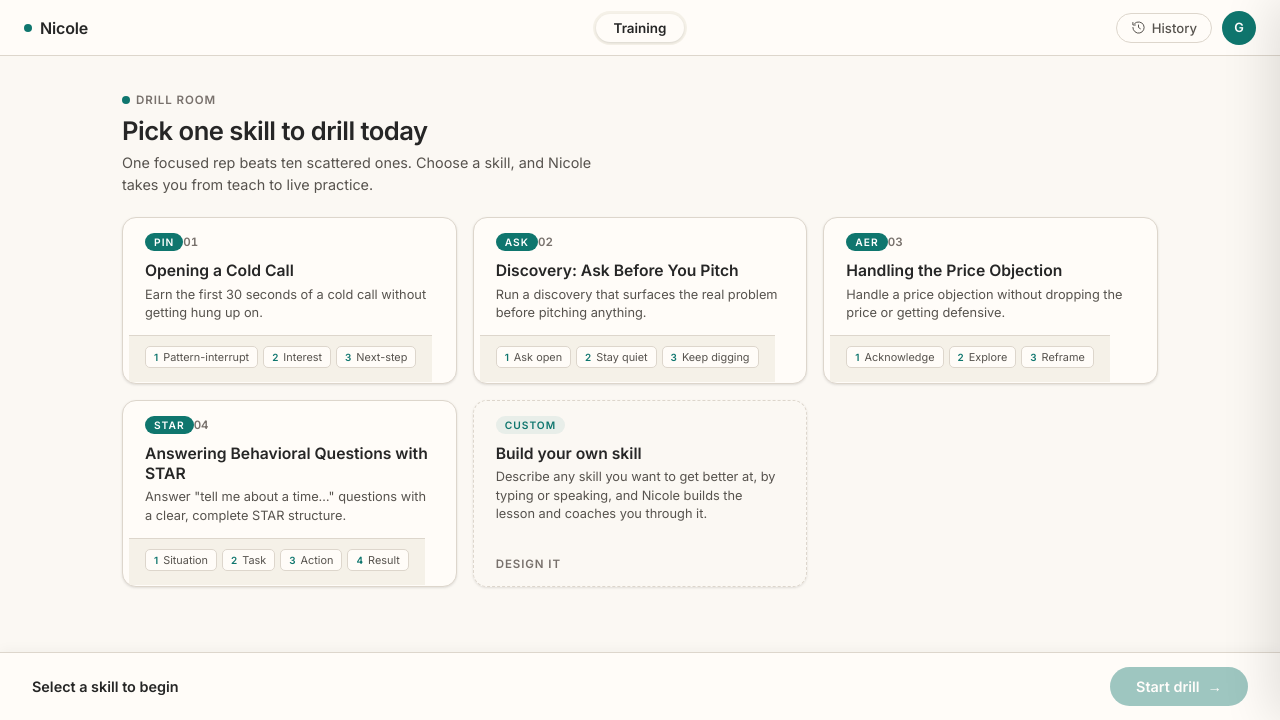
Test case: TrainingScreen › selecting a lesson shows the phase indicator (inside LiveRoom rail)
Click the button with test id "lesson-card" that starts with "PIN" at (289, 300), box [122,217,457,384]
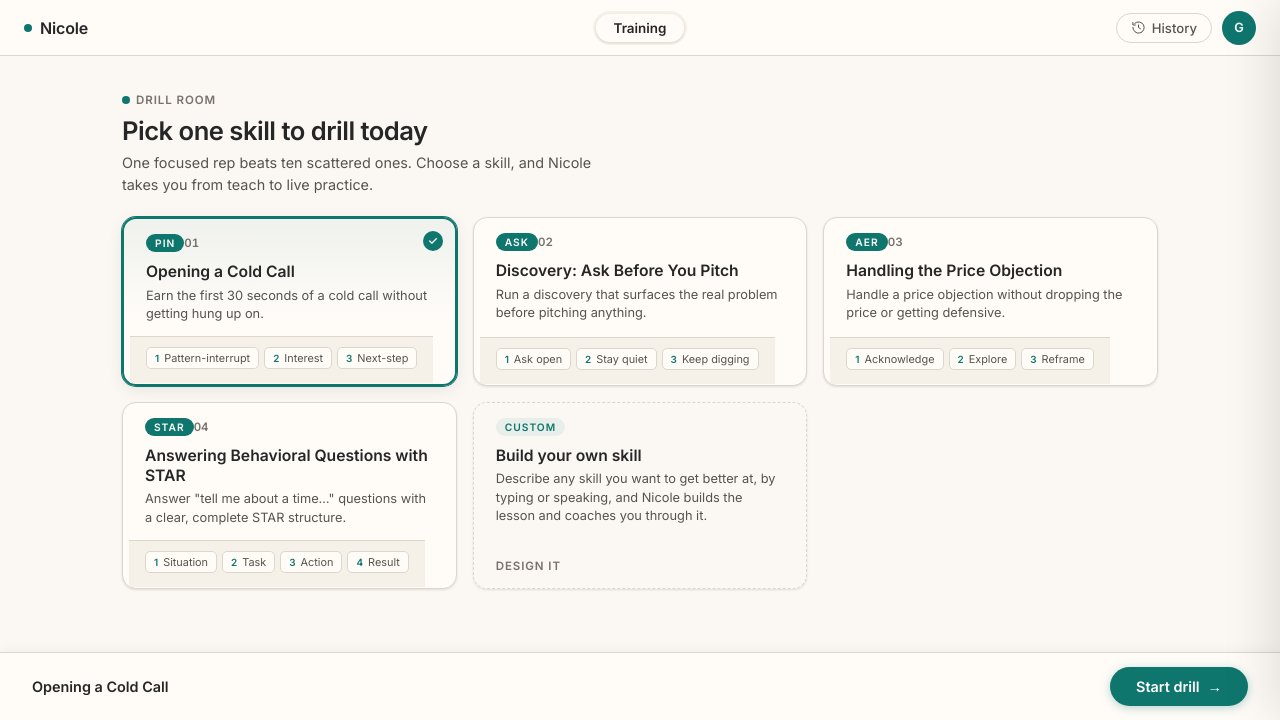
Click the button with test id "start-training-button" at (1179, 686), box [1110,667,1248,706]
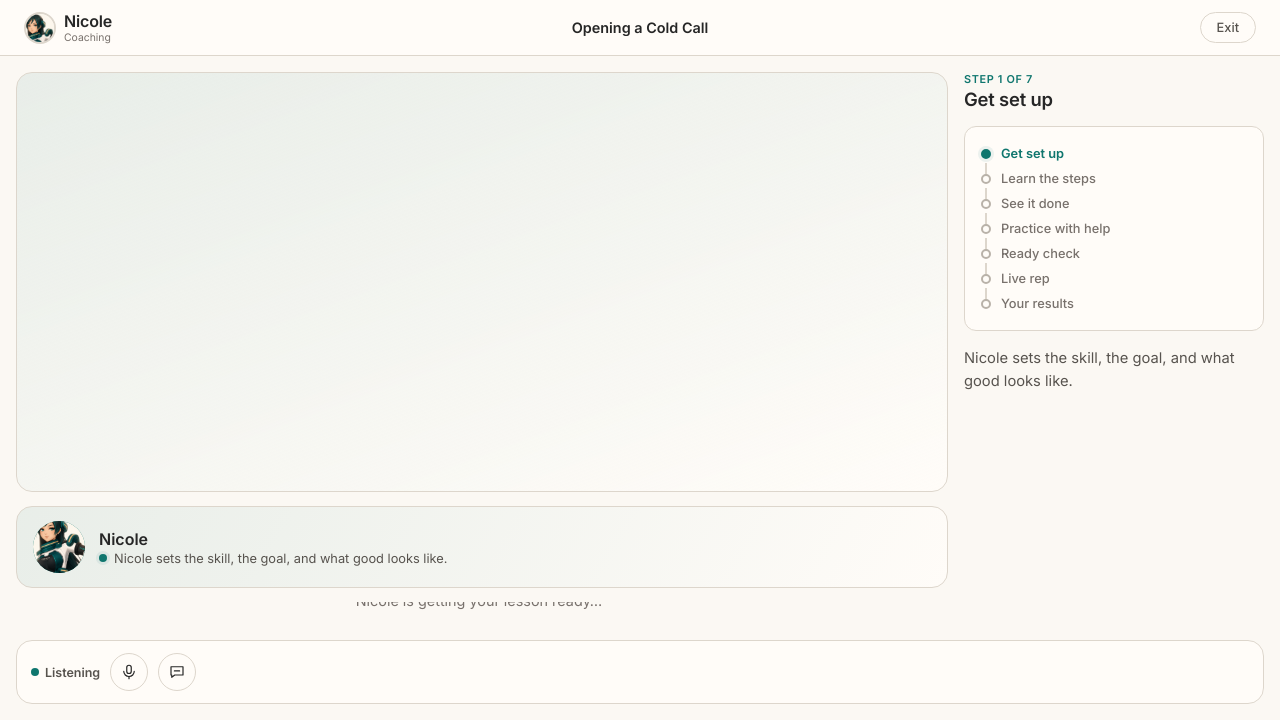
expect the navigation bar with test id "phase-indicator" is shown: met, box [964,126,1264,331]
expect the button with test id "lesson-card" is gone: met
